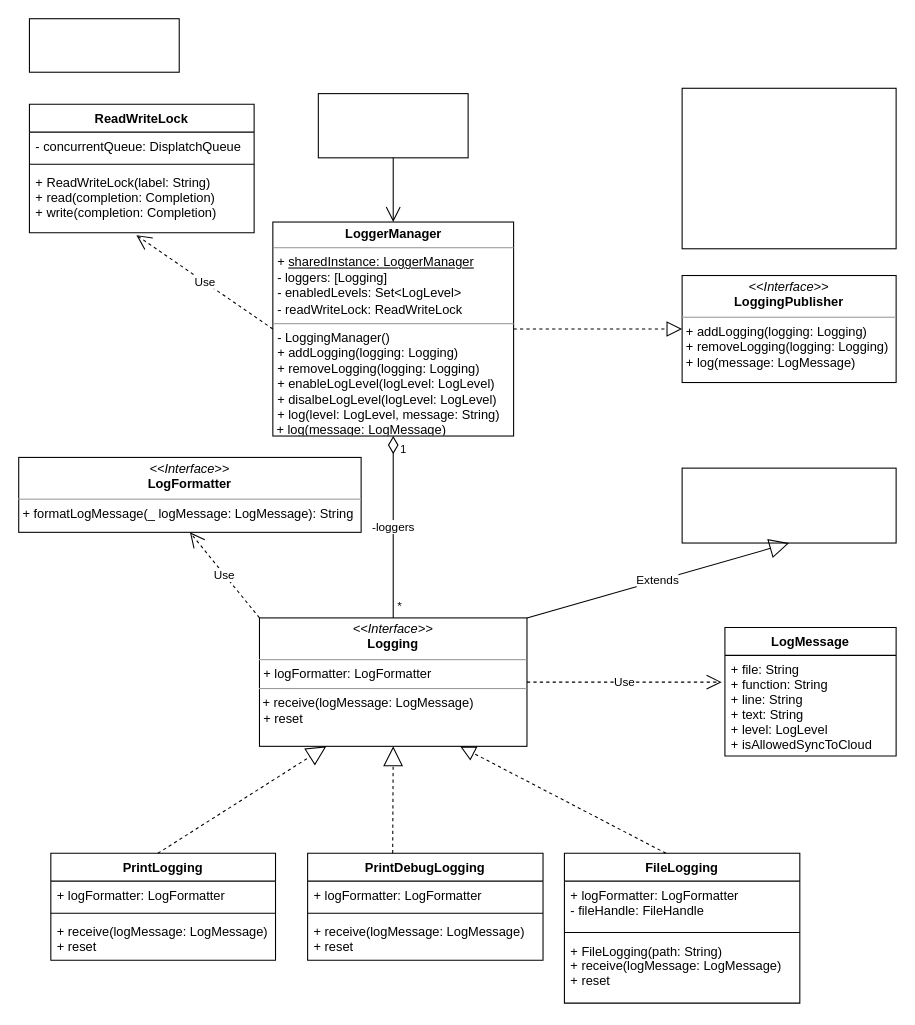
Some shapes in this 915 by 1025 pixel diagram are drawn without their labels. The centre of each missing label's shape, as x and y in pixels:
<<enumeration>> LogLevel verbose debug info warning error severe: the point at 788,168
<<Interface>> LoggingSubscriber + receive(logMessage: LogMessage): the point at 788,505
Client: the point at 392,125
«data Type» Completion (() -> Void): the point at 103,45
